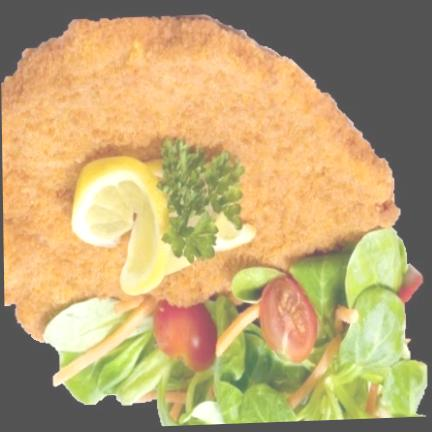chicken: (1, 19, 400, 341)
salad: (65, 229, 427, 426), (45, 299, 131, 368)
tomato: (260, 276, 318, 363), (154, 302, 217, 372)
